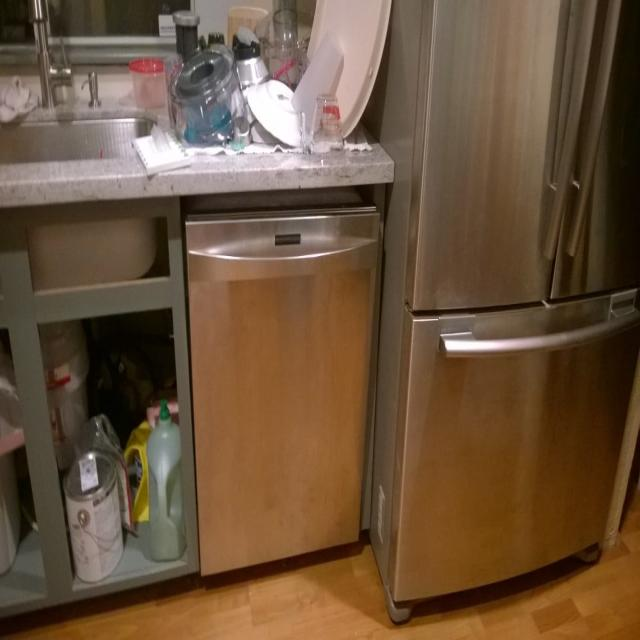dishwasher: (185, 186, 372, 581)
